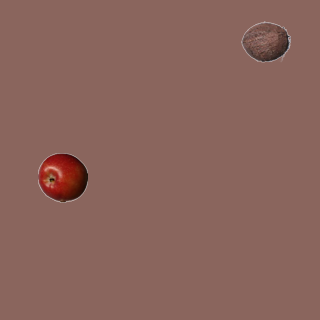Apple Braeburn: (37, 152, 87, 202)
Cocos: (240, 16, 290, 66)
